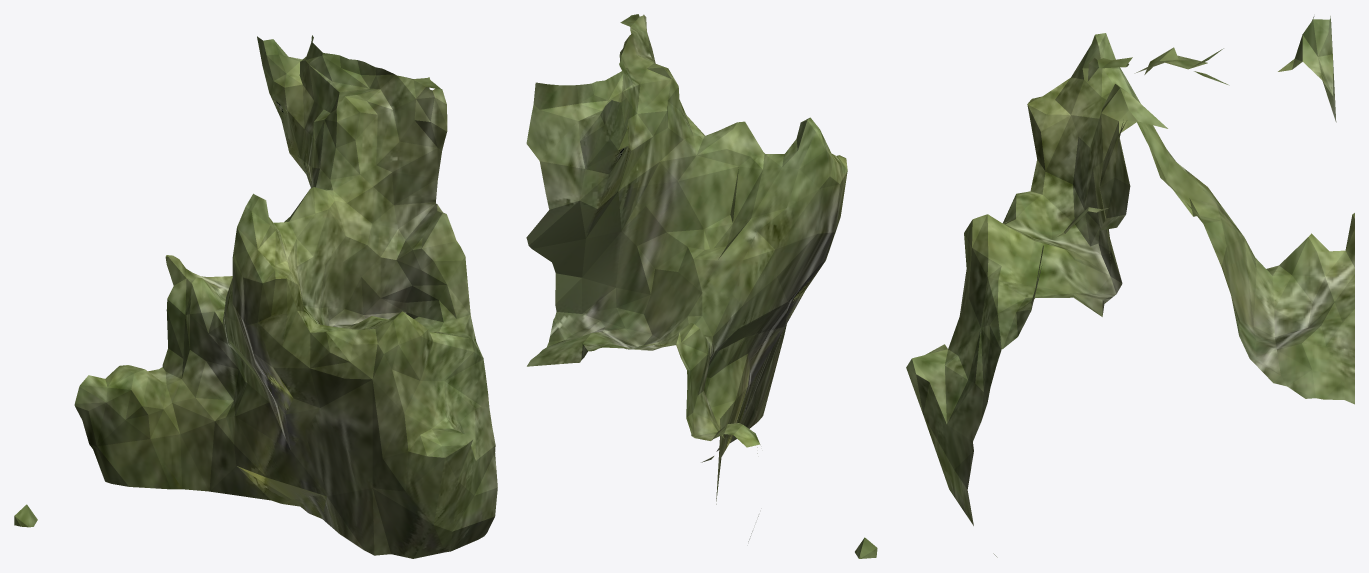
The picture shows the model from 3 angles, left to right: view 1: azimuth 30°, elevation 25°; view 2: azimuth 150°, elevation 25°; view 3: azimuth 270°, elevation 25°; orthographic projection. The views are drawn at different scales.
Bounding box in the file's own units: 2.52 × 2.95 × 2.43.
Materials: 3 (3 with a texture image).
